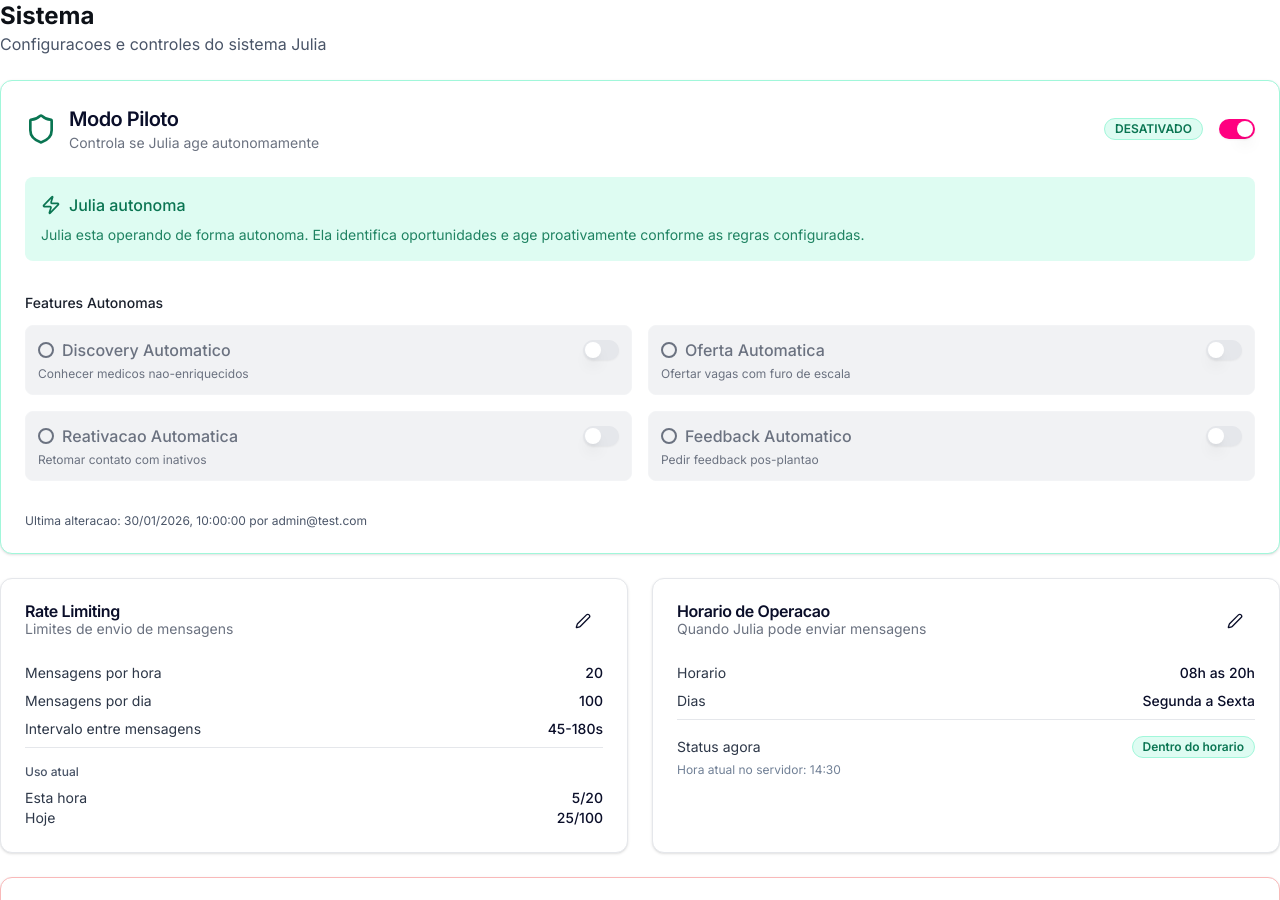
Test: SistemaPage › deve abrir dialog ao tentar ativar modo piloto
Expected: the text "DESATIVADO" is shown, [1104,118,1203,140]
Click the switch next to "DESATIVADO": point(1237, 129) [1219,119,1255,139]
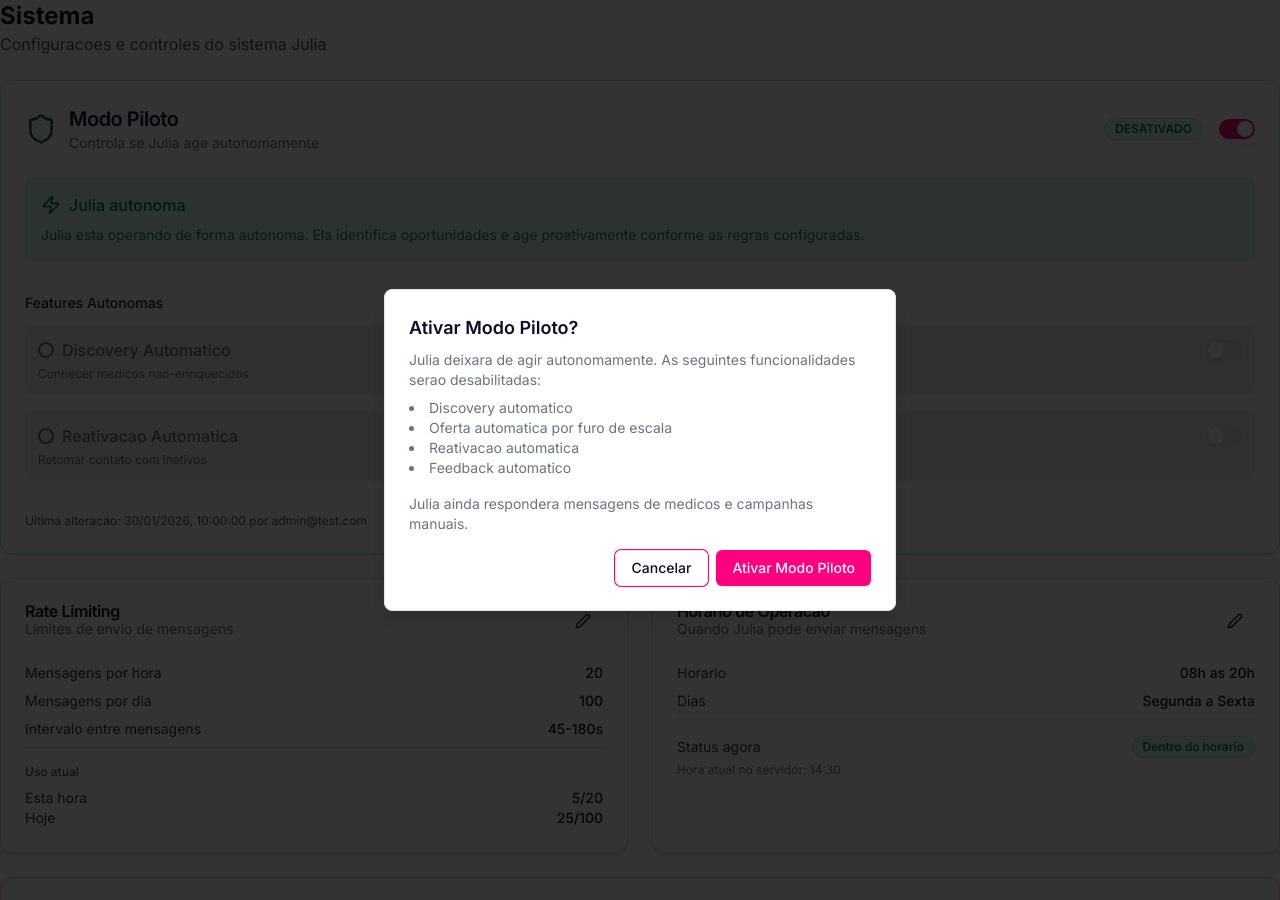
Result: the heading "Ativar Modo Piloto?" is shown at [409,317,578,338]
